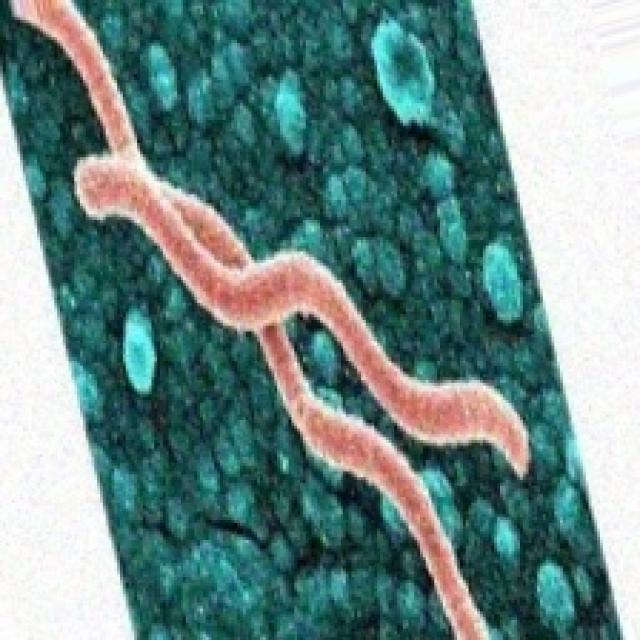Spiral_bacteria: (0, 0, 540, 637)
